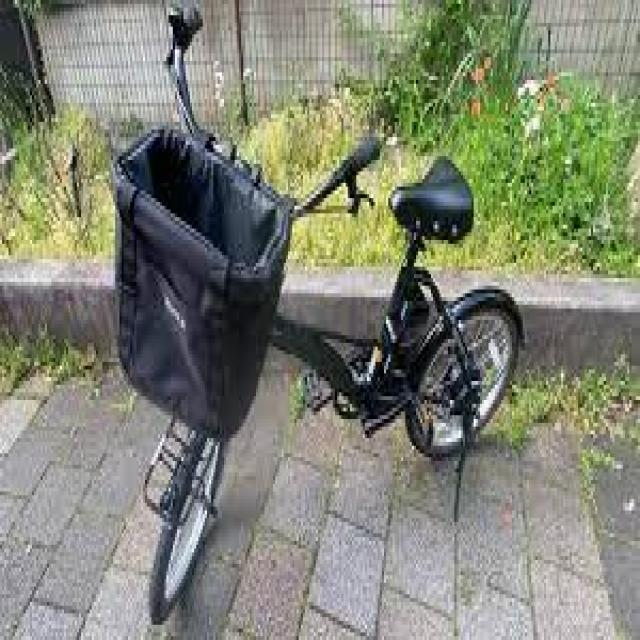basket: (112, 124, 290, 437)
